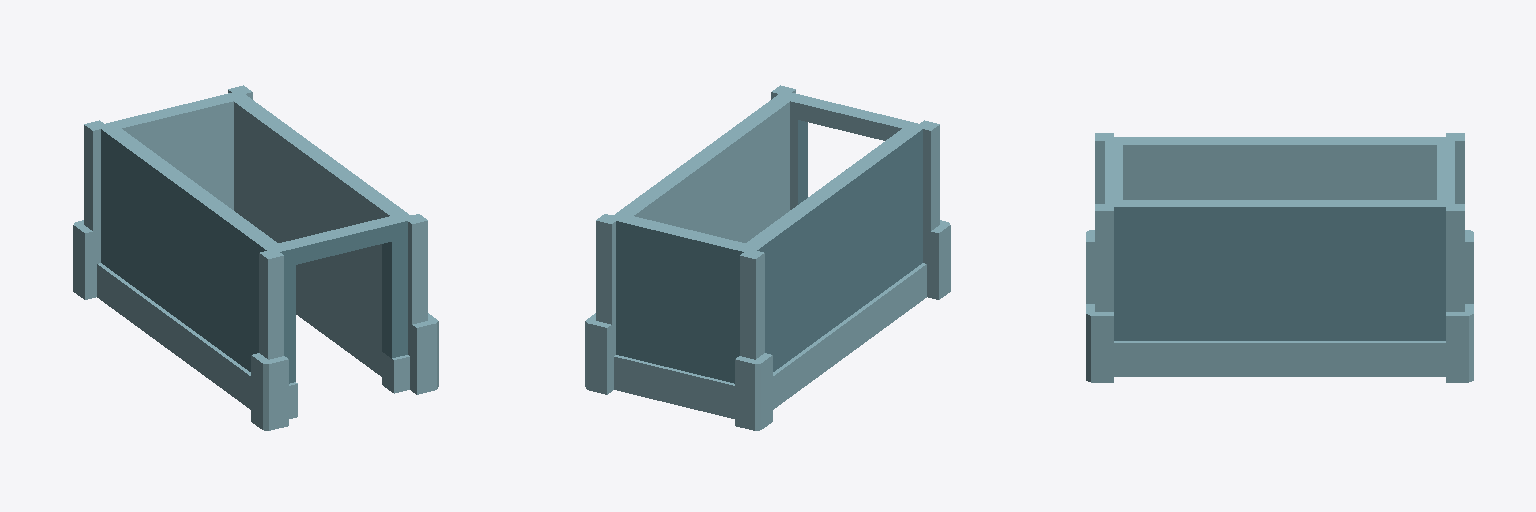
The model's file is cryptLarge.obj.
The picture shows the model from 3 angles: view 1: azimuth 30°, elevation 25°; view 2: azimuth 150°, elevation 25°; view 3: azimuth 270°, elevation 25°; orthographic projection.
Visible parts, largest first — view 1: cryptLarge; view 2: cryptLarge; view 3: cryptLarge.
Part boxes in pixels (left/top/right/bottom): cryptLarge: left=73, top=85, right=438, bottom=430; cryptLarge: left=585, top=85, right=950, bottom=430; cryptLarge: left=1086, top=133, right=1473, bottom=382.
Size of the model in its own units: 1.1 by 1 by 2.1.